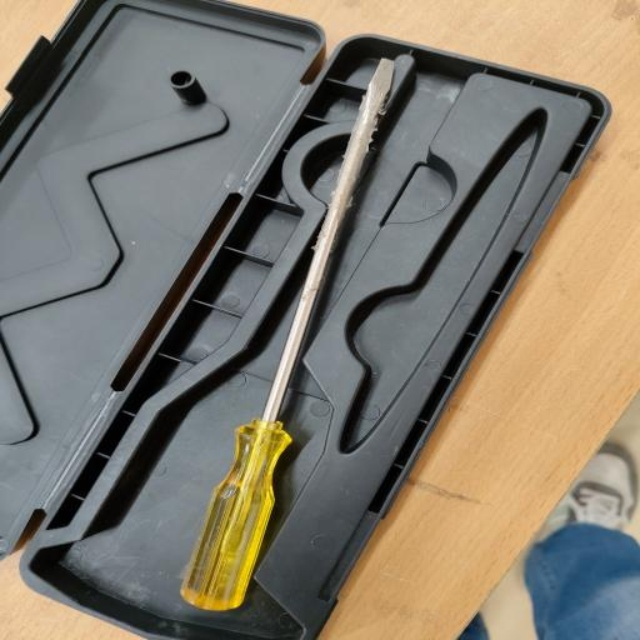screwdriver: (177, 51, 401, 619)
